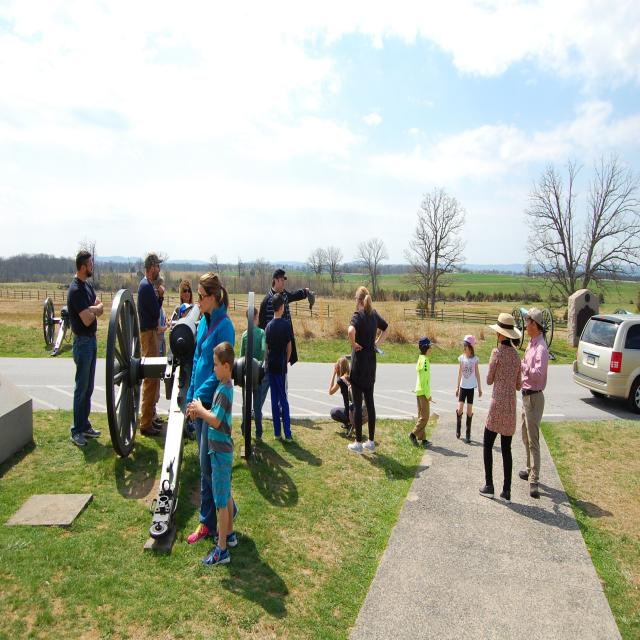body: (184, 270, 238, 546), (188, 338, 240, 572), (248, 267, 317, 422), (476, 309, 523, 506), (337, 428, 510, 481), (66, 248, 106, 447), (346, 283, 391, 456), (219, 529, 295, 622), (491, 481, 616, 535), (518, 306, 550, 497), (136, 250, 166, 438), (264, 292, 294, 444), (236, 304, 268, 444), (151, 273, 171, 427), (455, 334, 483, 444), (408, 336, 434, 446), (279, 416, 324, 470), (328, 355, 355, 439), (82, 438, 121, 468), (168, 279, 195, 322), (178, 302, 195, 318)
